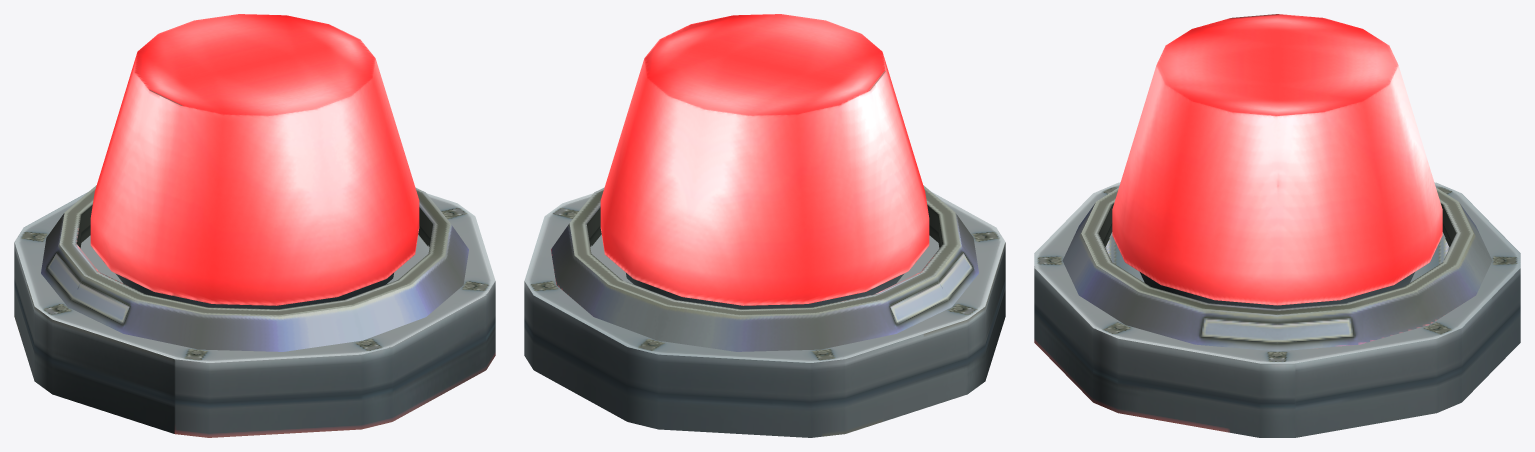
File: Haz_Light_A.fbx
The picture shows the model from 3 angles, left to right: view 1: azimuth 30°, elevation 25°; view 2: azimuth 150°, elevation 25°; view 3: azimuth 270°, elevation 25°; orthographic projection.
Visible parts, largest first — view 1: Haz_Light_A; view 2: Haz_Light_A; view 3: Haz_Light_A.
Boxes of the visible parts, x1,y1,x2,y2 form: Haz_Light_A: [14, 14, 495, 437]; Haz_Light_A: [524, 14, 1005, 437]; Haz_Light_A: [1034, 14, 1520, 437].
Size of the model in its own units: 42.74 by 26.19 by 42.74.
